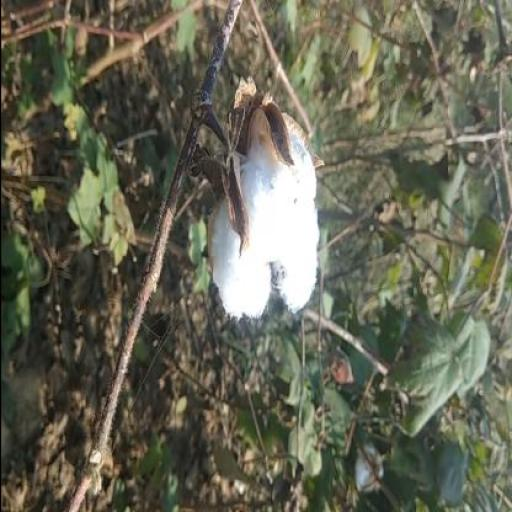cotton_ready: (177, 98, 324, 325)
